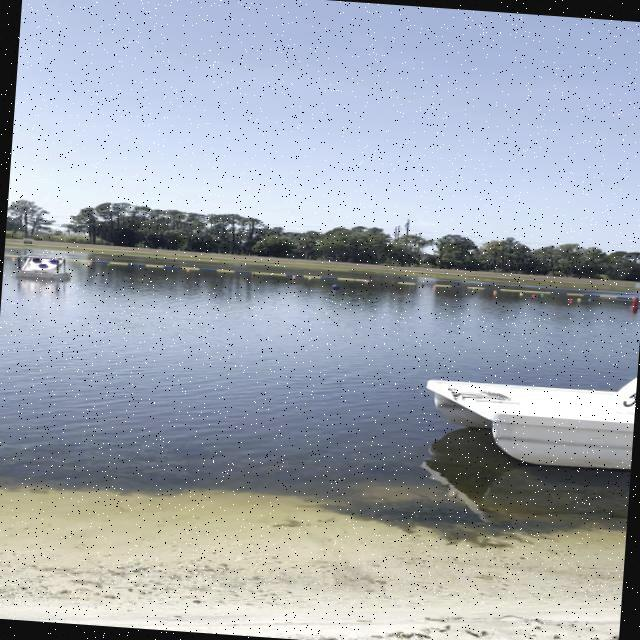buoy: (330, 283, 340, 289), (291, 274, 296, 278), (432, 284, 436, 288), (568, 298, 572, 301), (492, 290, 496, 293), (540, 293, 544, 296), (518, 292, 524, 294), (576, 298, 581, 300), (308, 276, 311, 279), (588, 298, 592, 300), (365, 280, 369, 282), (420, 284, 424, 286), (532, 294, 535, 296), (472, 288, 475, 290), (364, 280, 366, 282)
